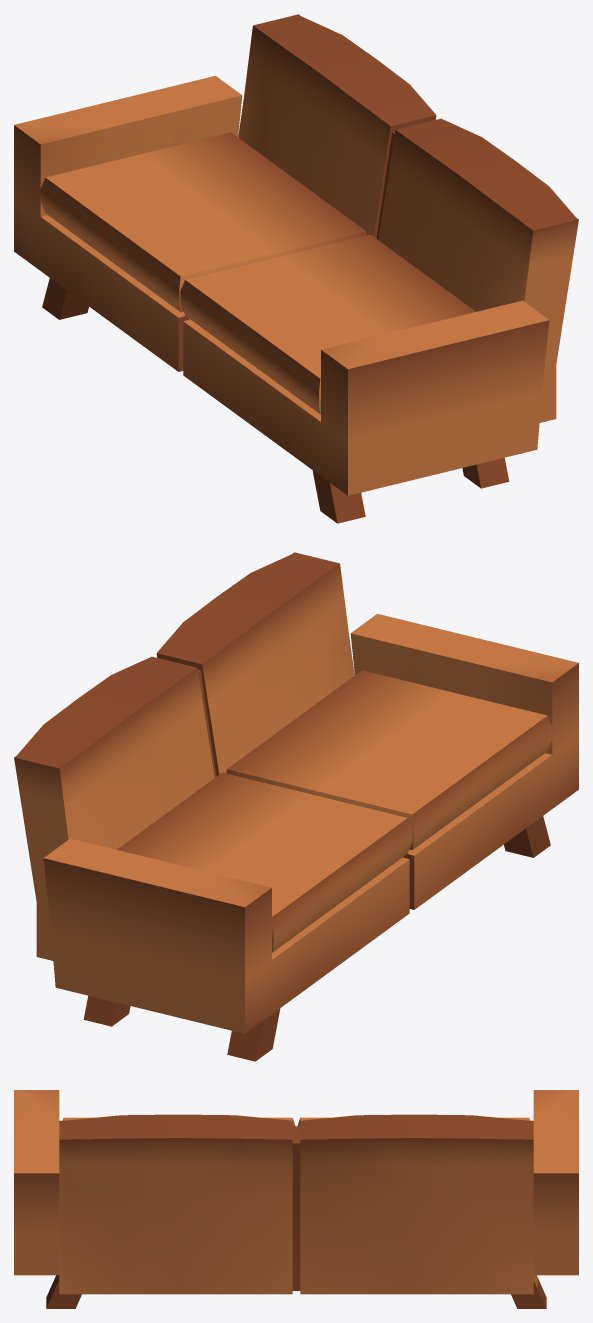
Rendered from LivingRoom_0.fbx.
3 views of the same model, one above another, from view 1: azimuth 30°, elevation 25°; view 2: azimuth 150°, elevation 25°; view 3: azimuth 270°, elevation 25° (orthographic). The views are drawn at different scales.
Parts seen in each view (by area): view 1: Plane.001; view 2: Plane.001; view 3: Plane.001.
Boxes of the visible parts, bbox=[...] form: Plane.001: bbox=[14, 14, 578, 523]; Plane.001: bbox=[14, 552, 578, 1061]; Plane.001: bbox=[14, 1090, 578, 1308].
Size of the model in its own units: 281 by 245 by 610.
